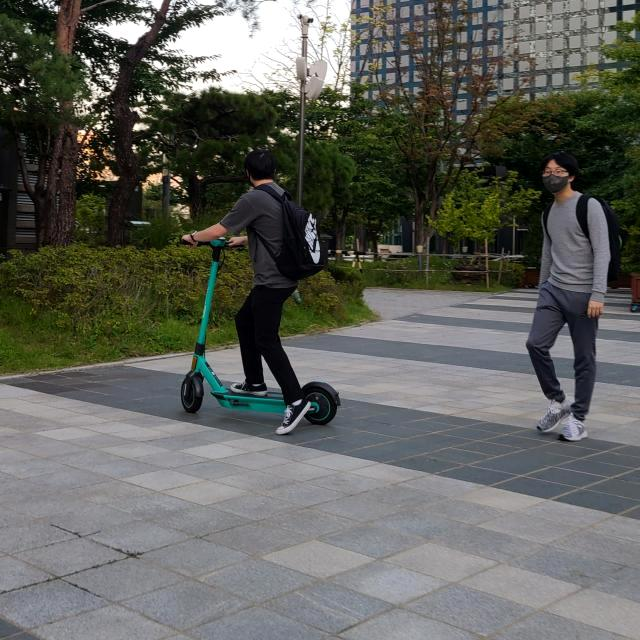bare_head: (241, 146, 288, 184)
human: (220, 139, 309, 390)
kickboard: (171, 364, 389, 444)
